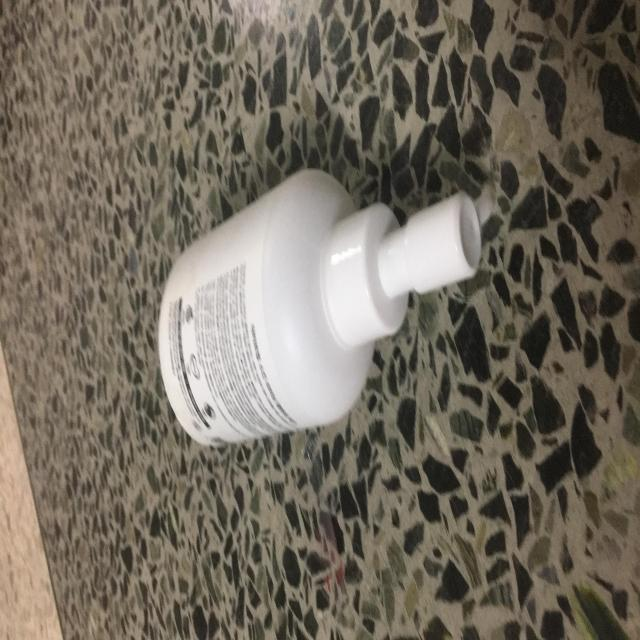bottle: (155, 163, 508, 498)
